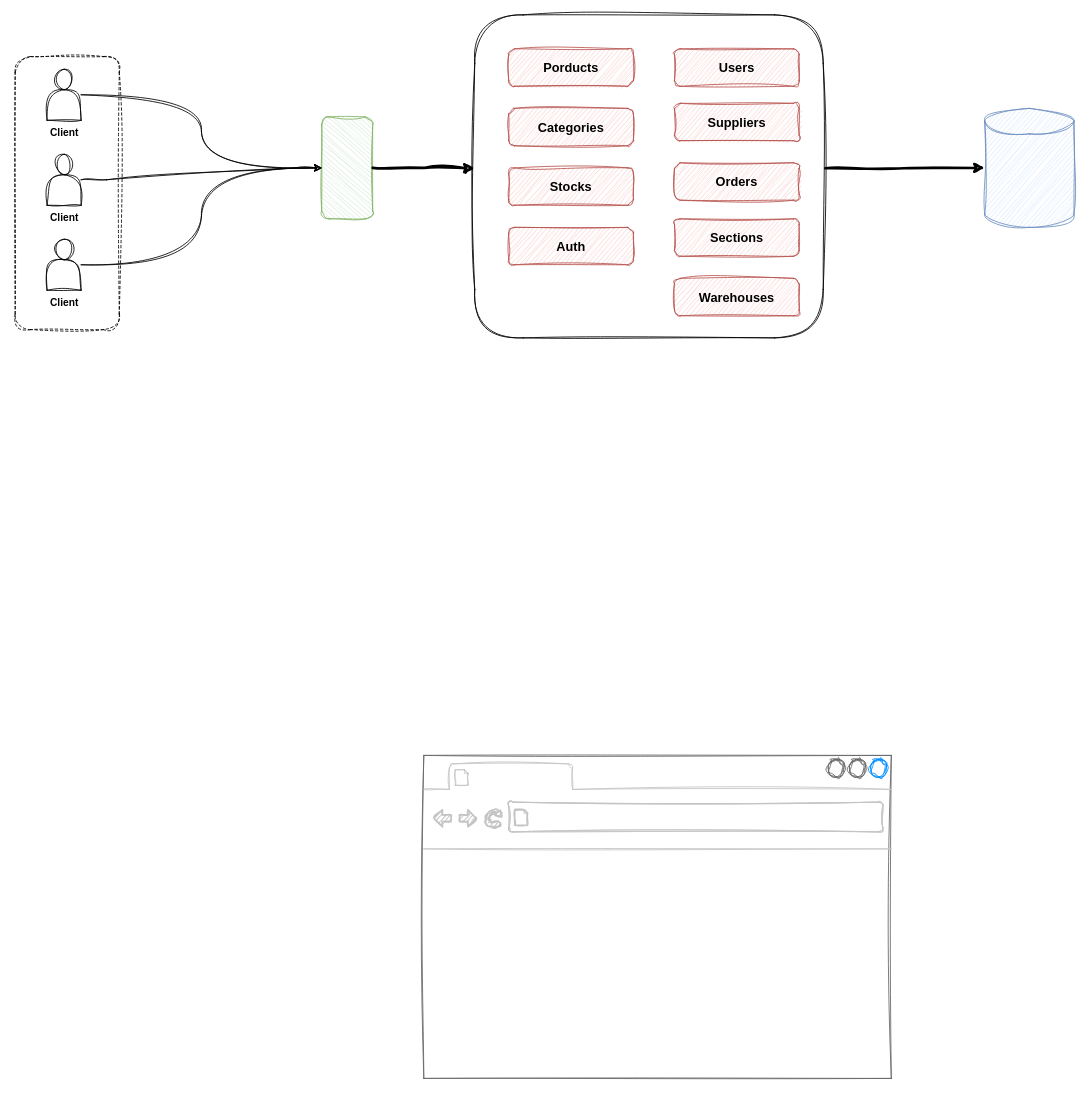
This 1089x1094 diagram has some shape labels left out. The shapes that lost their labels are listed below. From the top down, each one's box as (x1, y1, x2, y2) in pixels, then its label:
(321, 116, 373, 219): Nginx
(984, 108, 1074, 227): Postgres
(474, 765, 568, 788): Page 1
(533, 806, 747, 828): https://www.draw.io
